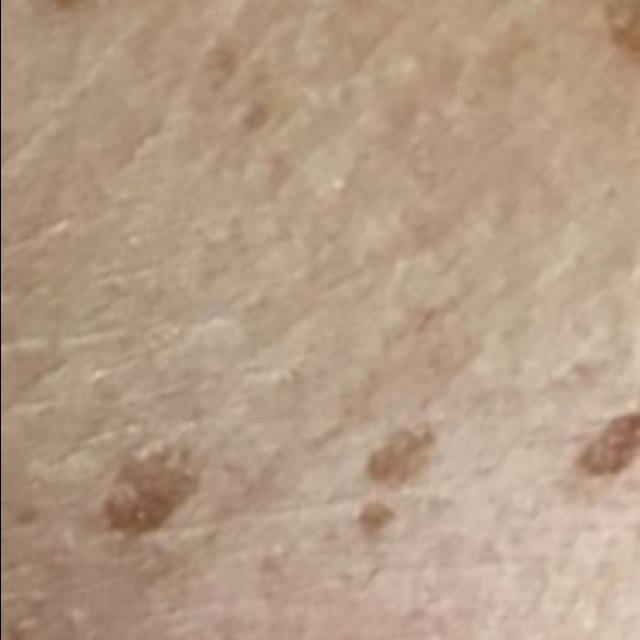wart: (96, 429, 218, 552), (334, 420, 446, 540), (571, 401, 640, 491), (612, 0, 640, 57), (41, 0, 112, 19)
